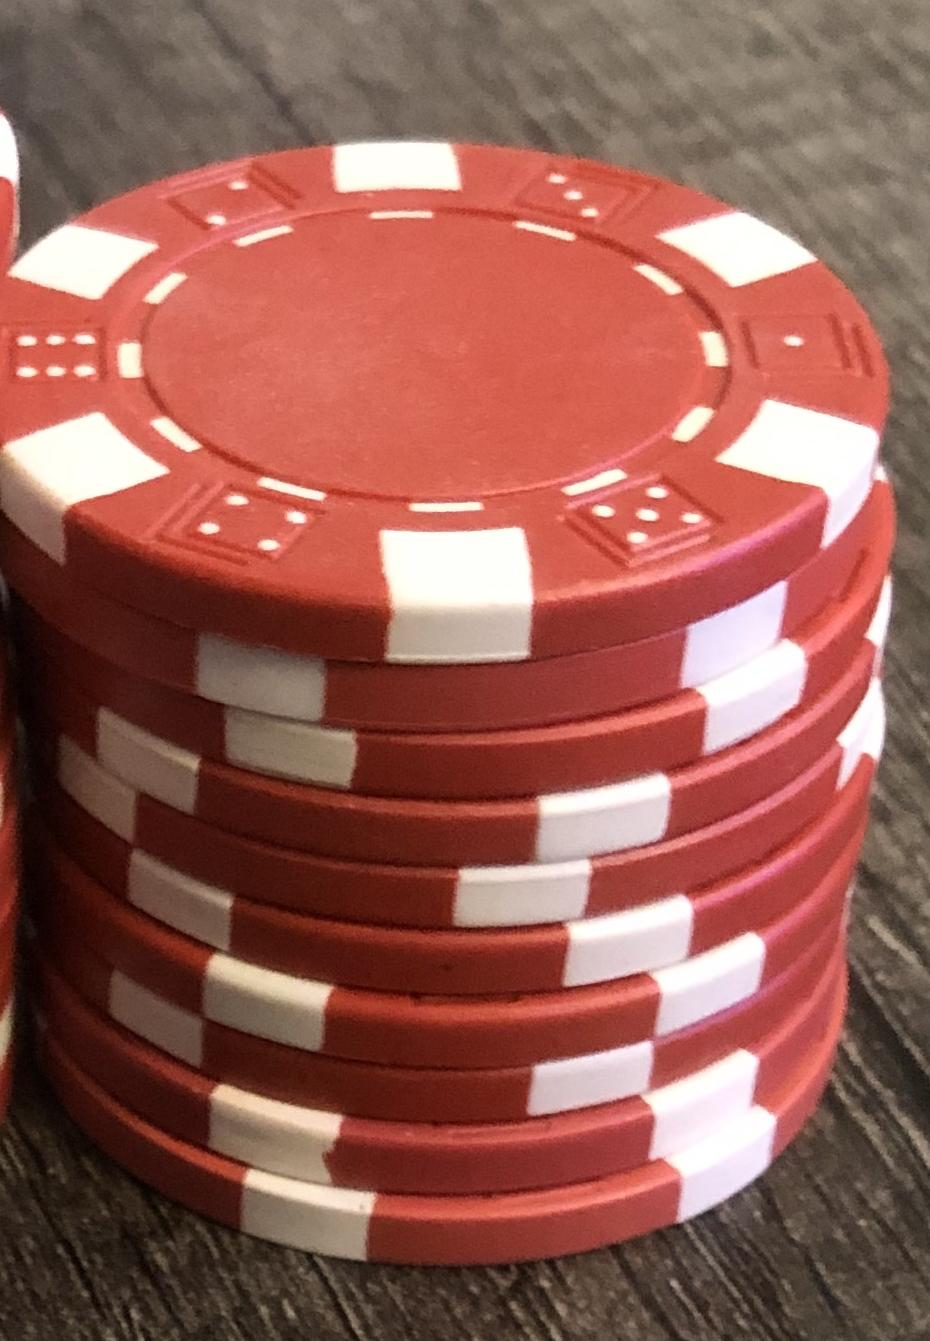Chip: (1, 1, 930, 1341)
